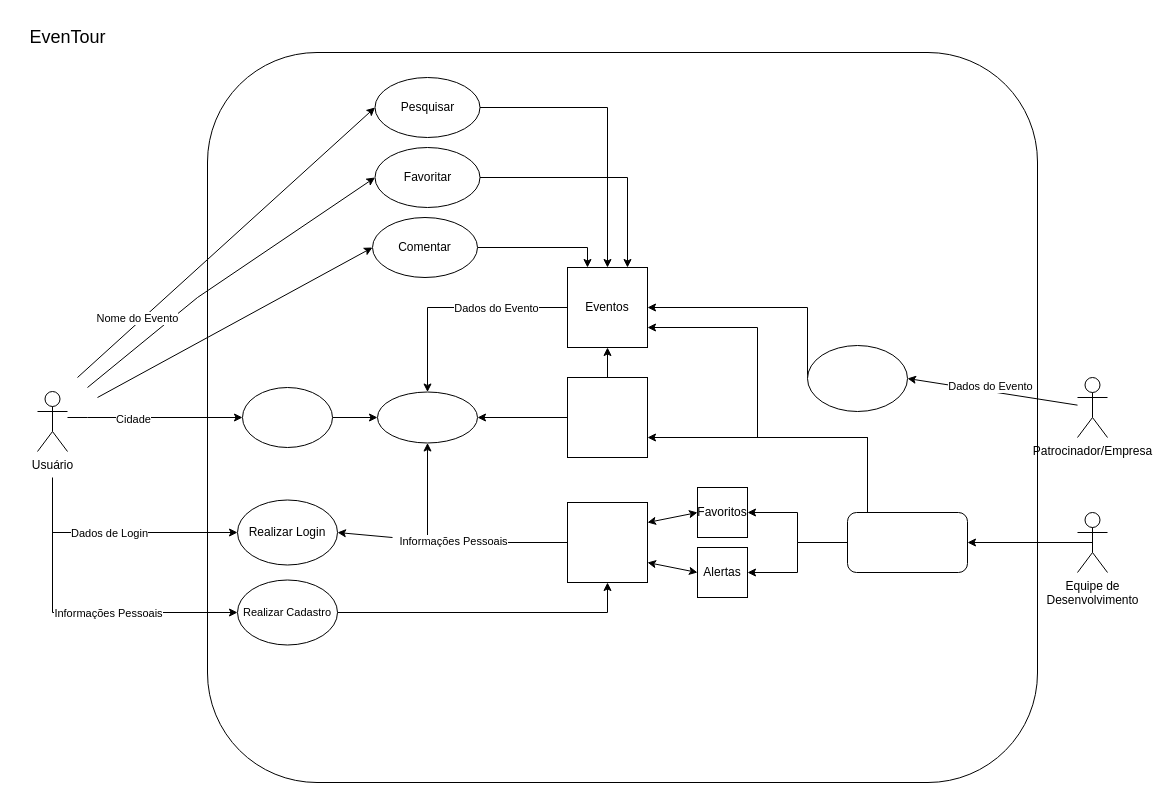
Image size: 1169x800. Some labels were removed from this diagram. The centre of each missing label's shape, as x and y in pixels:
"Cadastrar Evento" goes at [857,378].
"Comentários/ Avaliações" goes at [607,417].
"Escolher cidade" goes at [287,417].
"Manter" goes at [907,542].
"Perfil" goes at [607,542].
"Visualizar" goes at [427,417].
